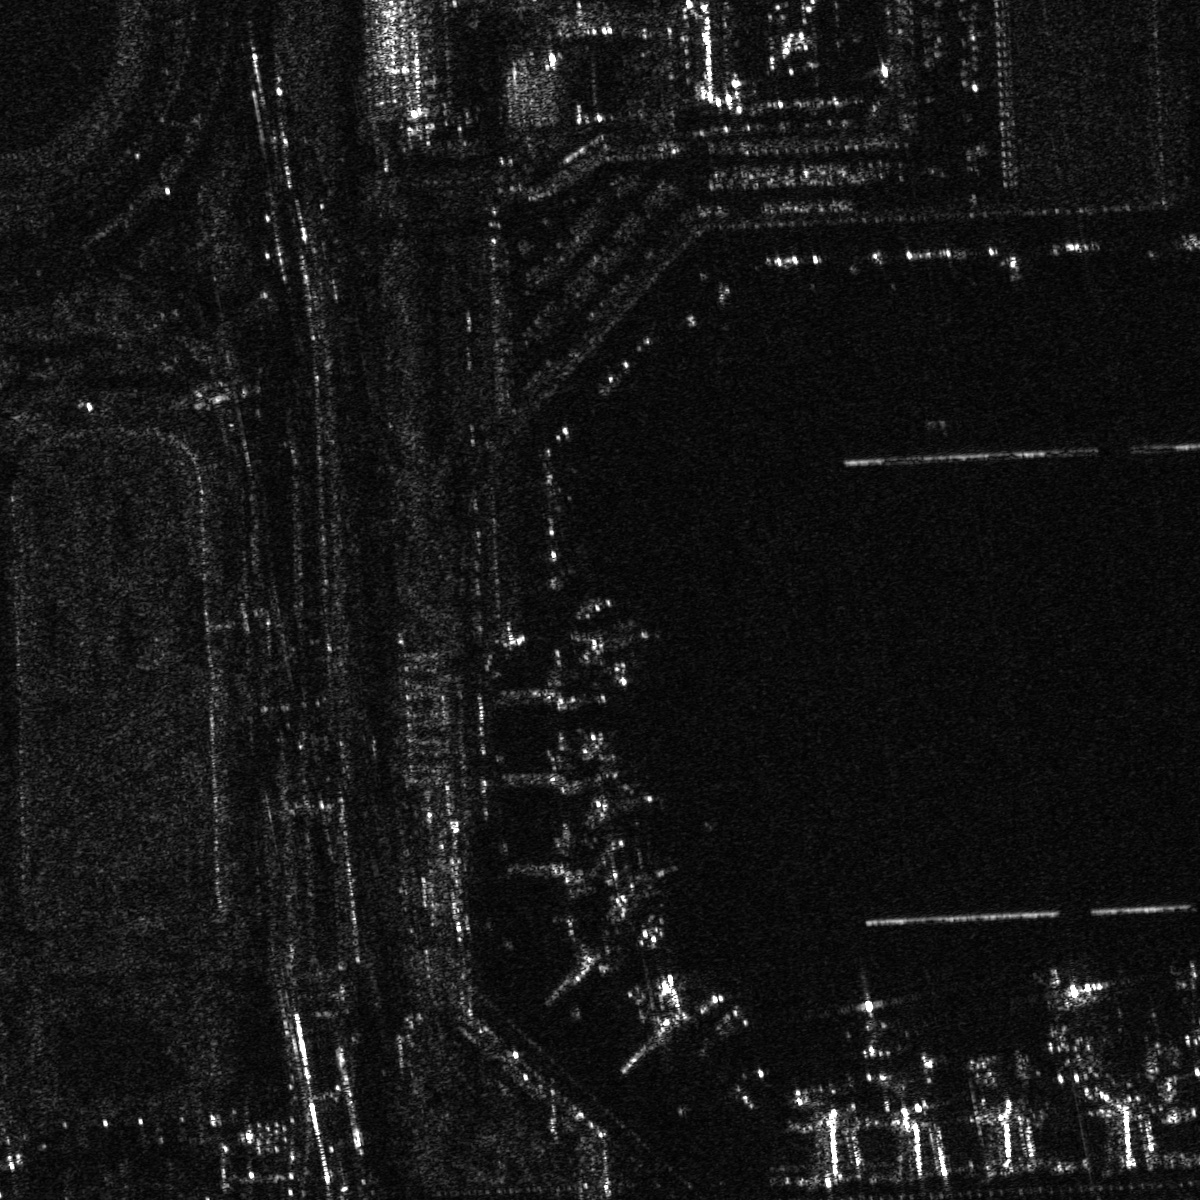A220: (541, 591, 662, 699), (557, 762, 664, 841), (836, 986, 900, 1038)
A320/321: (1038, 964, 1115, 1023)
